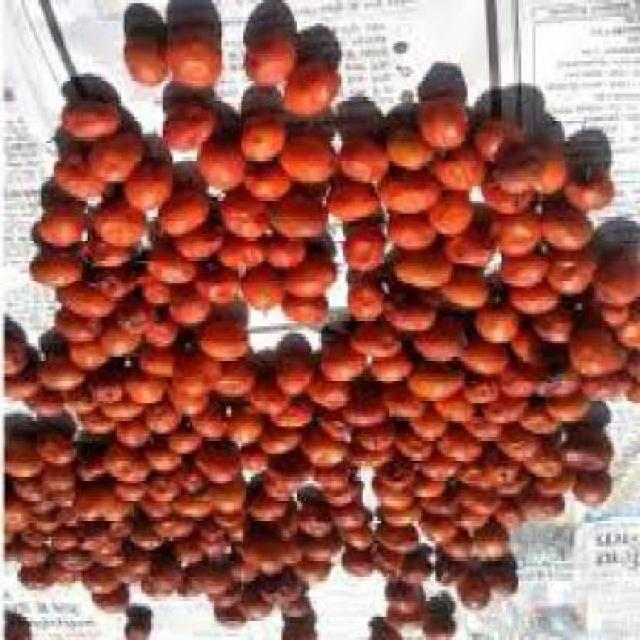BIODEGRADABLE: (416, 307, 478, 370), (285, 63, 350, 123), (94, 127, 148, 190), (572, 320, 630, 377), (170, 30, 222, 93), (494, 147, 548, 204), (542, 200, 596, 257), (382, 167, 441, 219), (441, 221, 499, 273), (59, 150, 110, 207), (418, 96, 469, 153), (395, 247, 450, 299), (436, 140, 486, 197), (246, 37, 300, 89), (63, 100, 122, 146), (433, 274, 492, 320), (55, 284, 117, 327), (282, 137, 344, 180), (384, 127, 436, 176), (163, 107, 214, 156), (562, 164, 613, 213), (38, 204, 88, 253), (268, 200, 329, 240), (591, 253, 638, 304), (124, 37, 170, 89), (436, 417, 484, 466), (341, 140, 392, 186), (222, 200, 276, 243), (489, 214, 543, 257), (144, 253, 202, 293), (518, 391, 562, 443), (534, 140, 574, 197), (130, 161, 172, 213), (178, 347, 220, 399), (328, 183, 382, 223), (552, 254, 602, 297), (34, 250, 83, 293), (321, 343, 370, 386), (434, 191, 477, 240), (389, 300, 438, 343), (472, 123, 520, 166), (562, 430, 610, 473), (243, 163, 294, 203), (409, 363, 460, 403), (98, 213, 148, 253), (178, 230, 228, 270), (514, 337, 564, 377), (197, 323, 251, 360), (244, 530, 287, 576), (287, 260, 336, 300), (242, 114, 284, 160), (248, 426, 304, 460), (348, 387, 392, 430), (348, 234, 389, 280), (127, 370, 170, 413), (161, 200, 207, 240), (408, 403, 450, 446), (446, 497, 488, 540), (202, 147, 243, 190), (144, 557, 185, 600), (205, 447, 246, 490), (348, 284, 389, 327), (90, 270, 141, 304), (263, 237, 309, 274), (40, 357, 86, 394), (107, 453, 153, 490), (262, 403, 316, 434), (294, 533, 343, 567), (392, 220, 441, 254), (511, 290, 560, 324), (502, 423, 543, 463), (584, 366, 628, 403), (78, 487, 118, 527), (311, 373, 351, 413), (273, 460, 316, 497), (596, 294, 633, 337), (353, 329, 404, 360), (222, 233, 264, 270), (36, 433, 78, 470), (506, 257, 548, 294), (533, 310, 575, 347), (295, 503, 336, 540), (282, 300, 326, 334), (246, 277, 286, 314), (143, 340, 183, 377), (476, 306, 516, 343), (484, 557, 518, 600), (5, 443, 44, 480), (248, 380, 284, 420), (19, 563, 61, 597), (372, 353, 414, 387), (466, 346, 508, 380), (550, 393, 592, 427), (172, 293, 210, 330), (532, 369, 582, 397), (277, 366, 314, 403), (197, 527, 231, 567), (467, 413, 507, 447), (516, 493, 564, 521), (88, 240, 130, 271), (58, 316, 100, 347), (230, 443, 272, 474), (309, 446, 351, 477), (312, 466, 354, 497), (360, 426, 402, 457), (420, 513, 458, 547), (2, 330, 30, 376), (217, 566, 263, 594), (261, 579, 307, 607), (246, 496, 292, 524), (465, 383, 506, 414), (387, 606, 428, 637), (80, 406, 117, 440), (226, 413, 263, 447), (214, 600, 251, 634), (372, 550, 406, 587), (579, 473, 613, 510), (460, 567, 489, 610), (506, 373, 546, 404), (202, 273, 238, 307), (338, 550, 374, 584), (192, 569, 235, 597), (82, 573, 124, 601), (536, 473, 578, 501), (153, 440, 182, 480), (4, 366, 38, 400), (222, 366, 256, 400), (462, 486, 496, 520), (149, 473, 180, 510), (2, 500, 30, 540), (56, 553, 96, 581), (153, 516, 193, 544), (333, 506, 373, 534), (526, 453, 566, 481), (618, 303, 638, 357), (182, 457, 207, 500), (95, 377, 124, 414), (95, 537, 124, 574), (494, 497, 523, 534), (12, 539, 50, 567), (384, 393, 422, 421), (122, 310, 153, 344), (102, 329, 136, 360), (168, 430, 202, 461), (142, 406, 176, 437), (132, 526, 166, 557), (319, 413, 353, 444), (353, 440, 384, 474), (382, 463, 416, 494), (73, 346, 110, 374), (27, 389, 64, 417), (209, 583, 246, 611), (477, 536, 514, 564), (105, 396, 138, 427), (445, 537, 472, 574), (324, 490, 367, 513), (76, 526, 107, 557), (243, 589, 274, 620), (487, 460, 518, 491), (282, 596, 316, 624), (214, 483, 248, 511), (170, 546, 204, 574), (343, 529, 377, 557), (412, 476, 446, 504), (387, 593, 428, 616), (94, 590, 134, 613), (78, 450, 105, 484), (402, 549, 431, 580), (114, 426, 146, 454), (12, 473, 43, 501), (126, 610, 157, 638), (62, 389, 92, 417), (202, 406, 226, 440), (266, 479, 294, 507), (44, 470, 78, 493), (287, 570, 333, 587), (200, 520, 243, 537), (423, 617, 455, 638), (134, 556, 155, 587), (143, 500, 171, 523), (114, 490, 151, 507), (151, 327, 178, 350), (27, 517, 58, 537), (440, 553, 458, 587), (54, 489, 75, 517), (284, 613, 318, 630), (112, 503, 131, 531), (628, 355, 638, 408), (29, 500, 54, 520), (144, 293, 173, 310), (10, 617, 32, 638), (468, 470, 486, 493), (112, 527, 134, 544), (372, 627, 402, 639), (282, 630, 318, 638), (389, 632, 406, 638)
